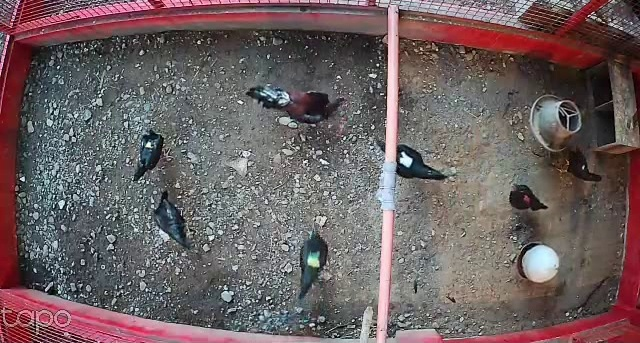Chicken: (373, 134, 451, 186), (293, 220, 334, 302), (152, 189, 197, 253), (133, 129, 171, 185), (553, 145, 603, 187), (504, 177, 548, 215)
Rooster: (243, 79, 348, 128)
Saddle_Color_Red: (524, 196, 531, 204)
Saddle_Color_White: (397, 151, 414, 166)
Saddle_Color_Yellow: (139, 140, 157, 149)
Saddle_Color_YellowGreen: (307, 251, 325, 269)
